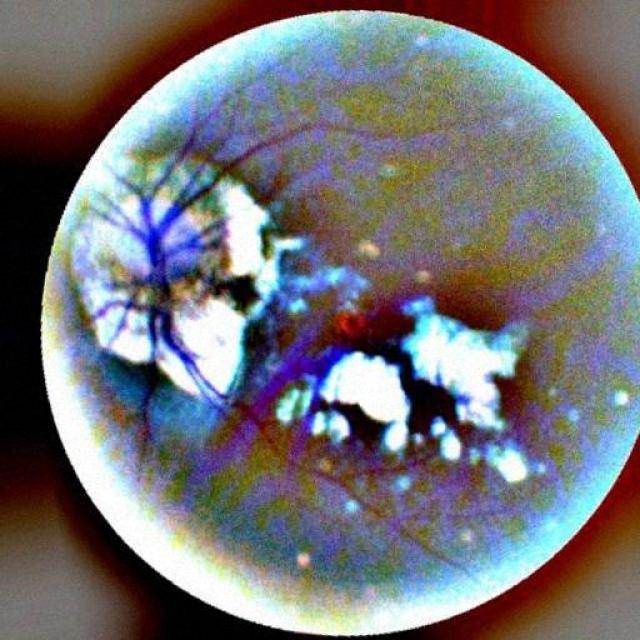Macula: (335, 308, 409, 370)
Nerves: (139, 32, 327, 234), (166, 109, 333, 225), (146, 239, 211, 399)
Optic Disk: (86, 154, 282, 395)
